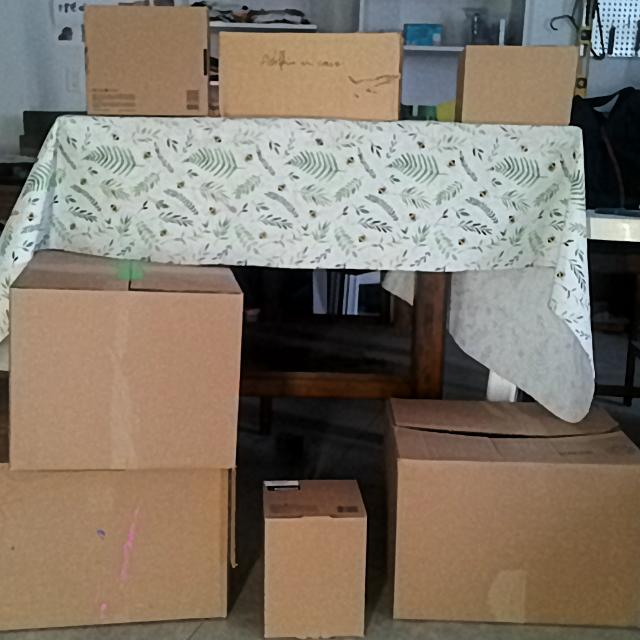box: (11, 286, 236, 469), (398, 457, 640, 624), (0, 464, 228, 624), (218, 34, 401, 120), (87, 6, 208, 115), (266, 517, 365, 639), (465, 46, 572, 125)
